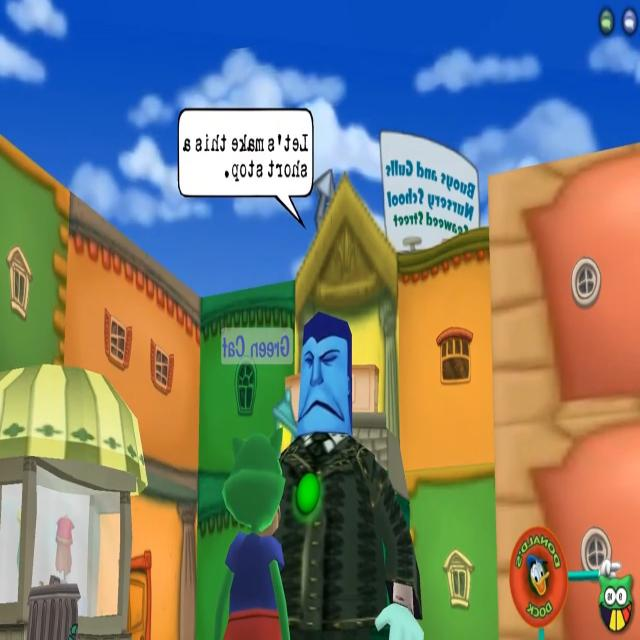shortchange: (179, 112, 427, 640)
